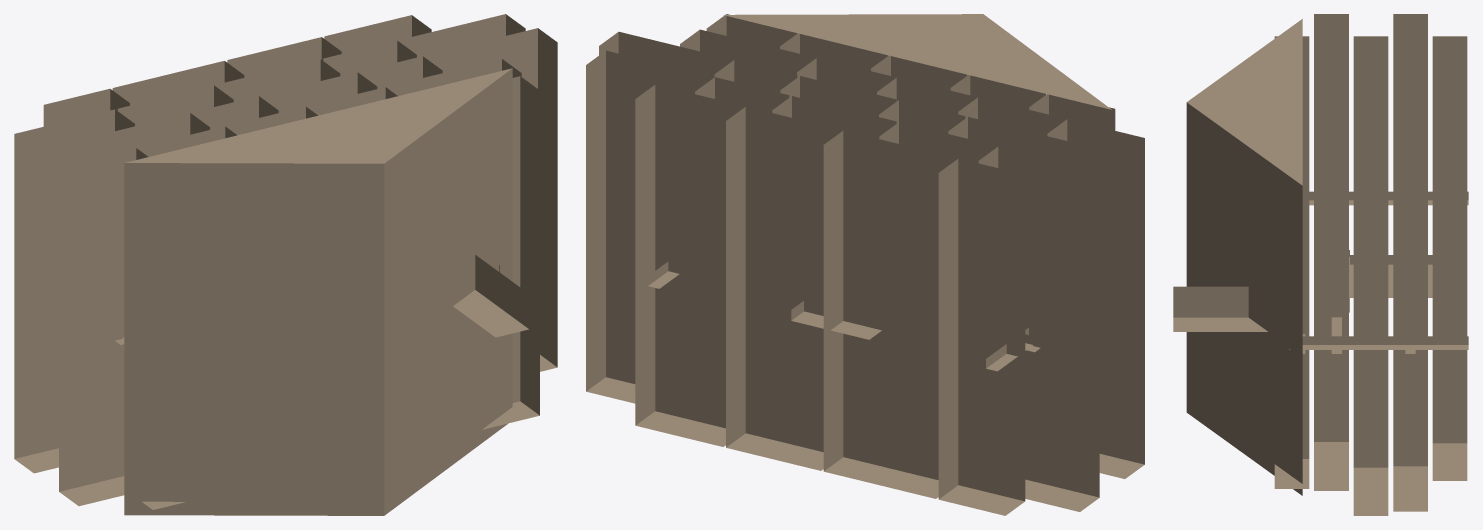
Rendered from tavern.glb.
3 views of the same model, side by side, from view 1: azimuth 30°, elevation 25°; view 2: azimuth 150°, elevation 25°; view 3: azimuth 270°, elevation 25° (orthographic). The views are drawn at different scales.
Parts seen in each view (by area): view 1: world; view 2: world; view 3: world.
Boxes of the visible parts, x1,y1,x2,y2 form: world: (14,14,557,515); world: (586,14,1144,515); world: (1173,14,1468,515).
Size of the model in its own units: 9.68 by 6.5 by 5.6.
